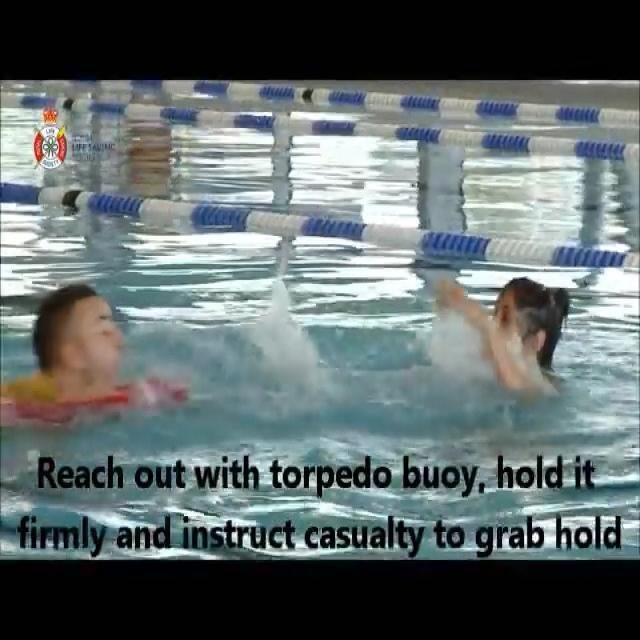Drowning: (420, 277, 568, 392)
Swimming: (12, 282, 183, 422)
